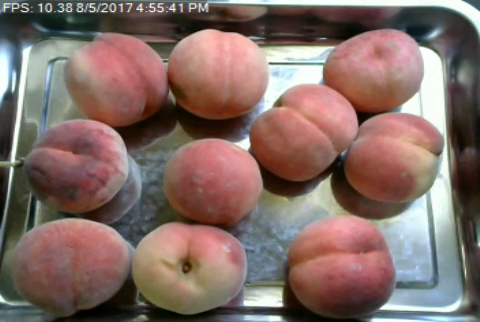Peach: (3, 216, 128, 315), (285, 214, 396, 319), (248, 82, 358, 182), (134, 222, 247, 316), (23, 117, 129, 213), (65, 31, 168, 128), (341, 112, 443, 205), (168, 26, 268, 120), (321, 26, 424, 114), (162, 137, 261, 226)
